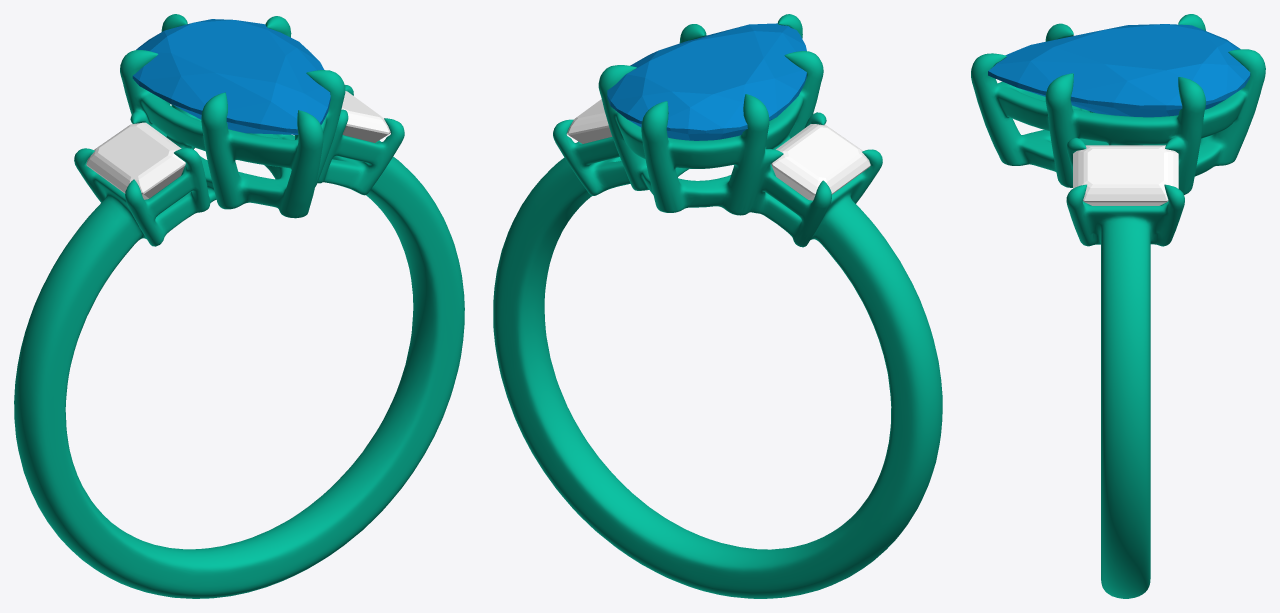
The model's file is BE1D9292_PE_200ct_RENDER.glb.
The picture shows the model from 3 angles, left to right: view 1: azimuth 30°, elevation 25°; view 2: azimuth 150°, elevation 25°; view 3: azimuth 270°, elevation 25°; orthographic projection.
Visible parts, largest first — view 1: Metal 01, CS_Diamond_Pear, Diamond_Emerald_Side.001, Diamond_Emerald_Side; view 2: Metal 01, CS_Diamond_Pear, Diamond_Emerald_Side.001, Diamond_Emerald_Side; view 3: Metal 01, CS_Diamond_Pear, Diamond_Emerald_Side.
Part boxes in pixels (left/top/right/bottom): Metal 01: left=14, top=14, right=464, bottom=598; CS_Diamond_Pear: left=132, top=19, right=330, bottom=134; Diamond_Emerald_Side.001: left=86, top=122, right=185, bottom=199; Diamond_Emerald_Side: left=341, top=91, right=390, bottom=142; Metal 01: left=493, top=14, right=942, bottom=598; CS_Diamond_Pear: left=607, top=23, right=806, bottom=140; Diamond_Emerald_Side.001: left=771, top=124, right=870, bottom=200; Diamond_Emerald_Side: left=567, top=99, right=612, bottom=143; Metal 01: left=971, top=14, right=1265, bottom=598; CS_Diamond_Pear: left=988, top=24, right=1250, bottom=117; Diamond_Emerald_Side: left=1073, top=145, right=1178, bottom=205.
Size of the model in its own units: 20.28 by 23.46 by 11.86.
